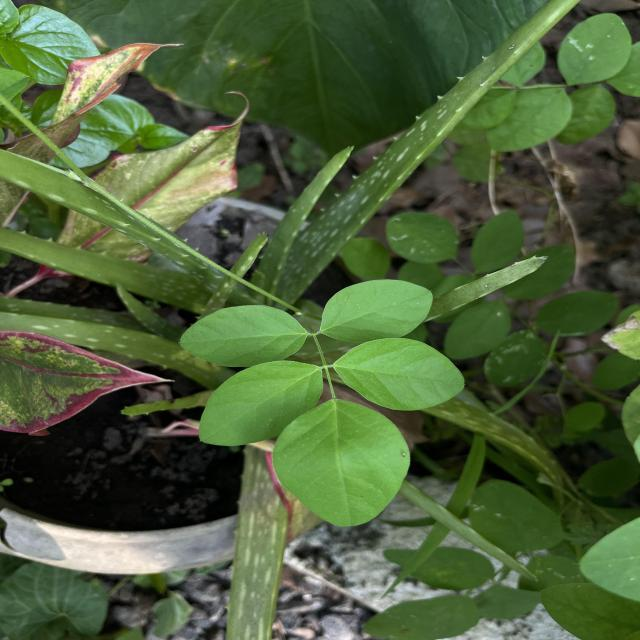Clitoria ternatea: (271, 398, 414, 528), (198, 360, 324, 448), (332, 337, 466, 412), (178, 304, 310, 368), (319, 278, 434, 343)
